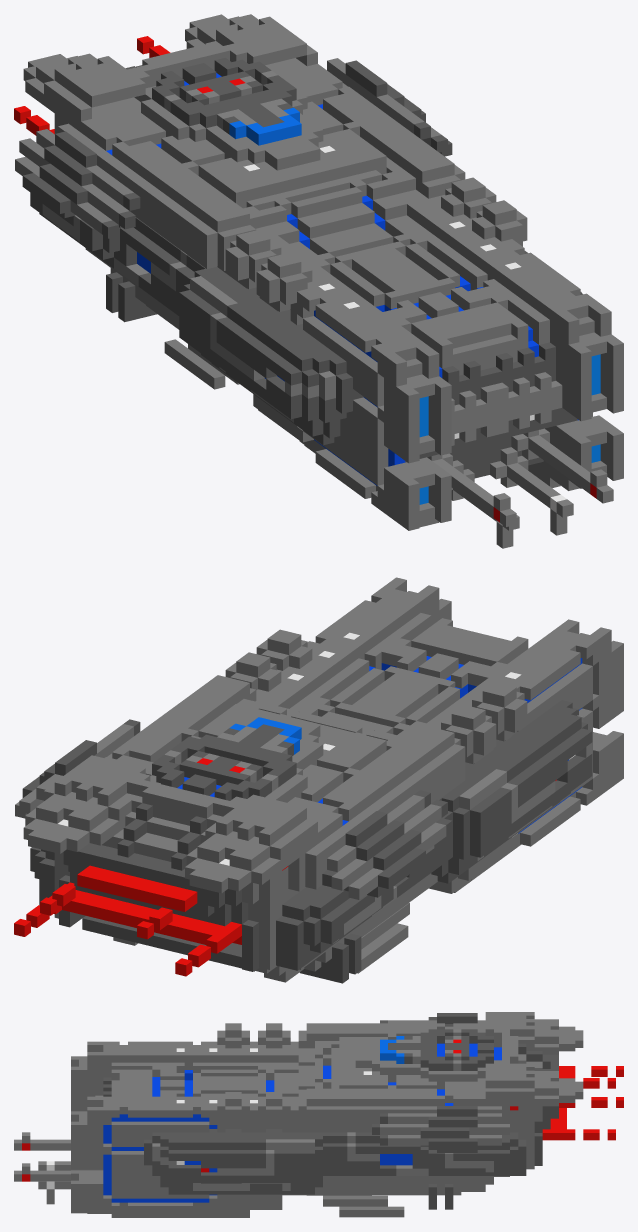
Rendered from Spaceship11.gltf.
3 views of the same model, one above another, from view 1: azimuth 30°, elevation 25°; view 2: azimuth 150°, elevation 25°; view 3: azimuth 270°, elevation 25° (orthographic). The views are drawn at different scales.
Visible parts, largest first — view 1: Untitled; view 2: Untitled; view 3: Untitled.
Boxes of the visible parts, left/top/right/bottom form: Untitled: left=14, top=14, right=623, bottom=548; Untitled: left=14, top=577, right=623, bottom=983; Untitled: left=14, top=1012, right=623, bottom=1217.
Size of the model in its own units: 3.4 by 2 by 7.5.
Materials: 1 (1 with a texture image).
